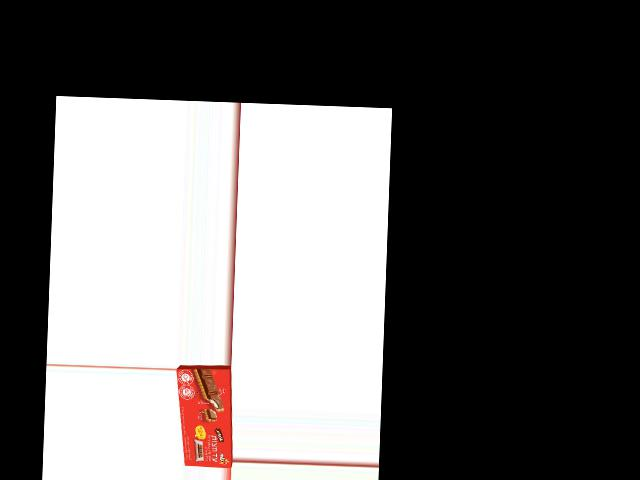chocolate: (178, 365, 231, 468)
